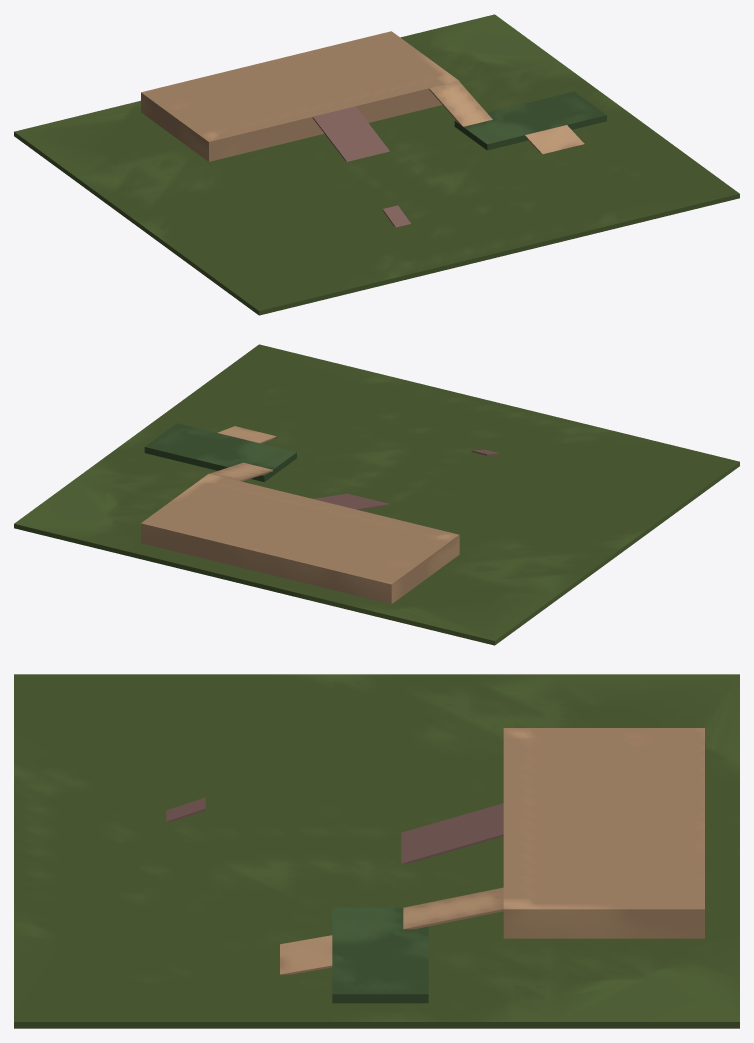
File: terrain.glb
The picture shows the model from 3 angles, top to bottom: view 1: azimuth 30°, elevation 25°; view 2: azimuth 150°, elevation 25°; view 3: azimuth 270°, elevation 25°; orthographic projection. The views are drawn at different scales.
Parts seen in each view (by area): view 1: terrain; view 2: terrain; view 3: terrain.
Boxes of the visible parts, <box> form: terrain: <box>14,14,739,315</box>; terrain: <box>14,344,739,645</box>; terrain: <box>14,674,739,1028</box>.
Bounding box in the file's own units: 94 × 4.56 × 83.
